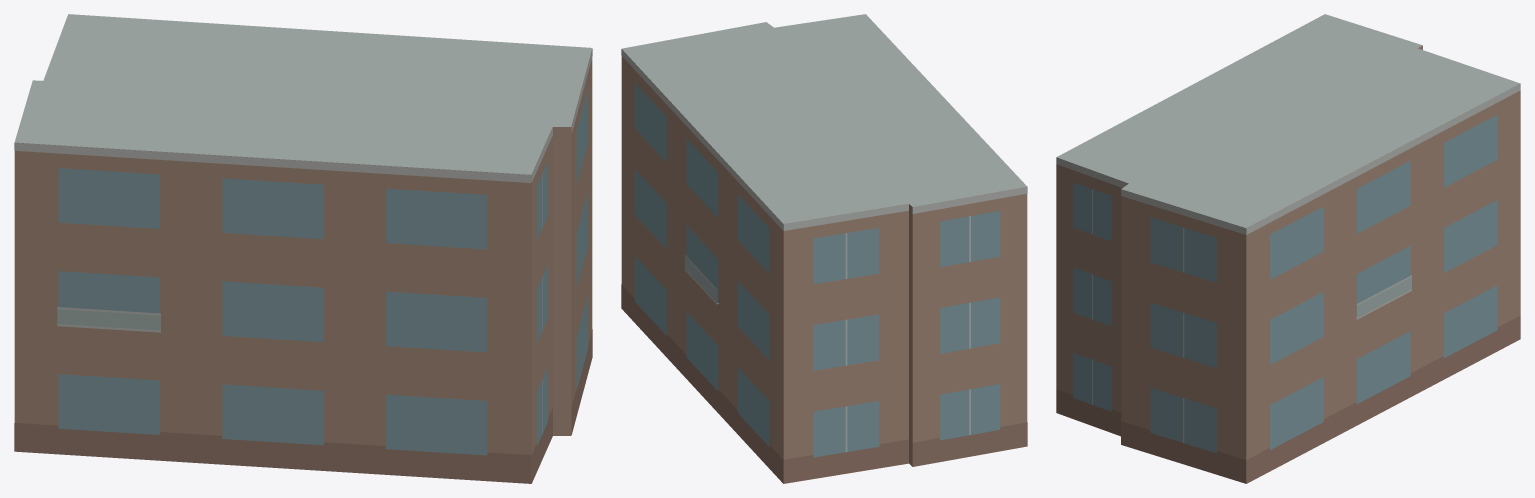
File: survey-upis-32641509.glb
3 renders of one model, left to right at view 1: azimuth 30°, elevation 25°; view 2: azimuth 150°, elevation 25°; view 3: azimuth 270°, elevation 25°, orthographic. The views are drawn at different scales.
Visible parts, largest first — view 1: survey-upis-32641509.tmp; view 2: survey-upis-32641509.tmp; view 3: survey-upis-32641509.tmp.
Boxes of the visible parts, left/top/right/bottom form: survey-upis-32641509.tmp: left=14, top=14, right=592, bottom=483; survey-upis-32641509.tmp: left=621, top=14, right=1027, bottom=483; survey-upis-32641509.tmp: left=1056, top=14, right=1520, bottom=483.
Size of the model in its own units: 16.45 by 9.15 by 15.07.
